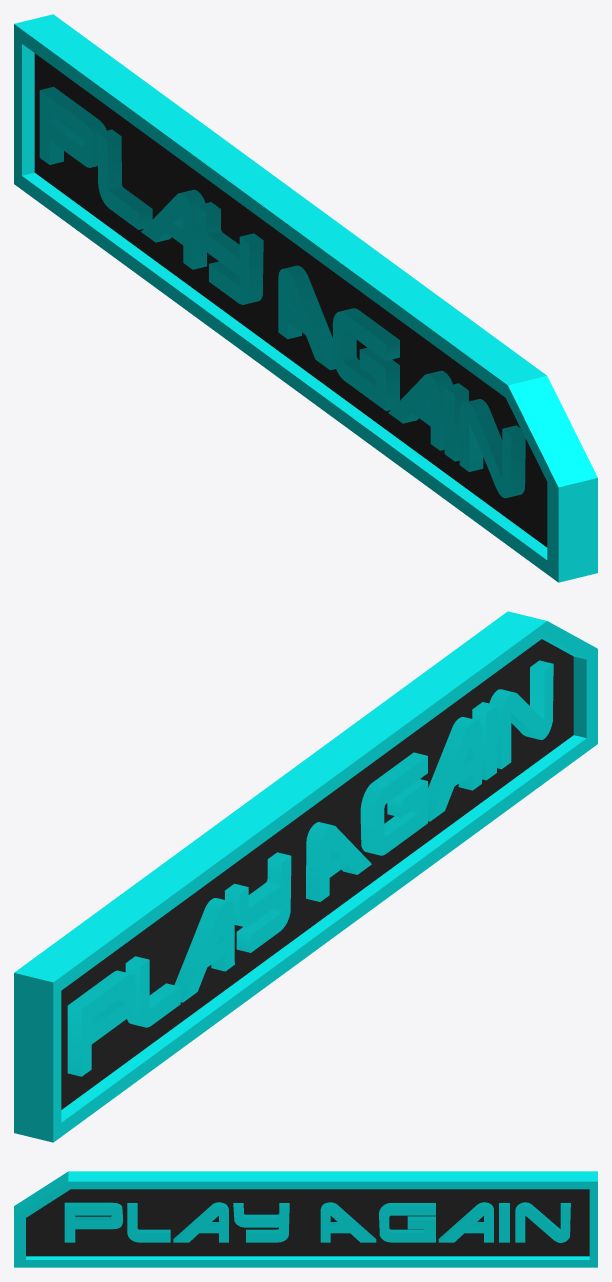
The model's file is PlayAgain.fbx.
3 renders of one model, top to bottom at view 1: azimuth 30°, elevation 25°; view 2: azimuth 150°, elevation 25°; view 3: azimuth 270°, elevation 25°, orthographic. The views are drawn at different scales.
Parts seen in each view (by area): view 1: Cube.001; view 2: Cube.001; view 3: Cube.001.
Boxes of the visible parts, <box> form: Cube.001: <box>14,14,597,582</box>; Cube.001: <box>14,611,597,1142</box>; Cube.001: <box>14,1171,597,1267</box>.
Bounding box in the file's own units: 38.81 × 146 × 899.
